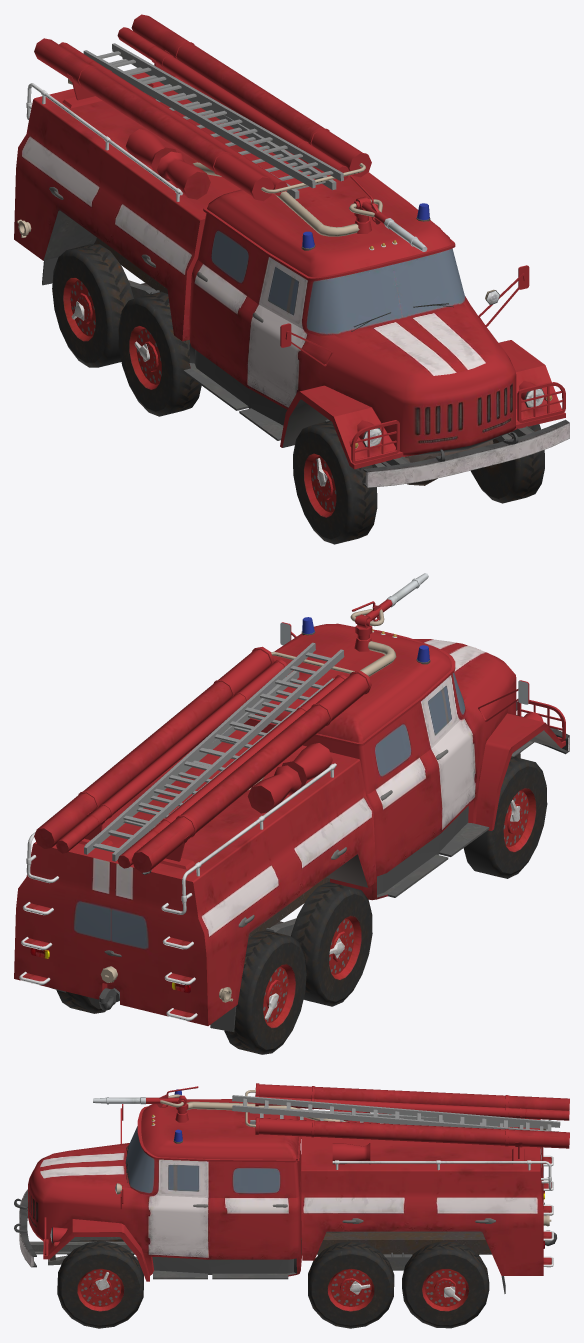
Rendered from realfiretruck.glb.
3 renders of one model, top to bottom at view 1: azimuth 30°, elevation 25°; view 2: azimuth 150°, elevation 25°; view 3: azimuth 270°, elevation 25°, orthographic. The views are drawn at different scales.
Parts seen in each view (by area): view 1: Object_3, Object_4; view 2: Object_3, Object_4; view 3: Object_3, Object_4.
Boxes of the visible parts, x1,y1,x2,y2 form: Object_3: (14,14,569,487); Object_4: (52,244,544,544); Object_3: (14,573,569,1031); Object_4: (56,756,547,1054); Object_3: (14,1083,569,1293); Object_4: (57,1239,489,1328).
Size of the model in its own units: 2.77 by 3.11 by 7.5.
Materials: 2 (2 with a texture image).
